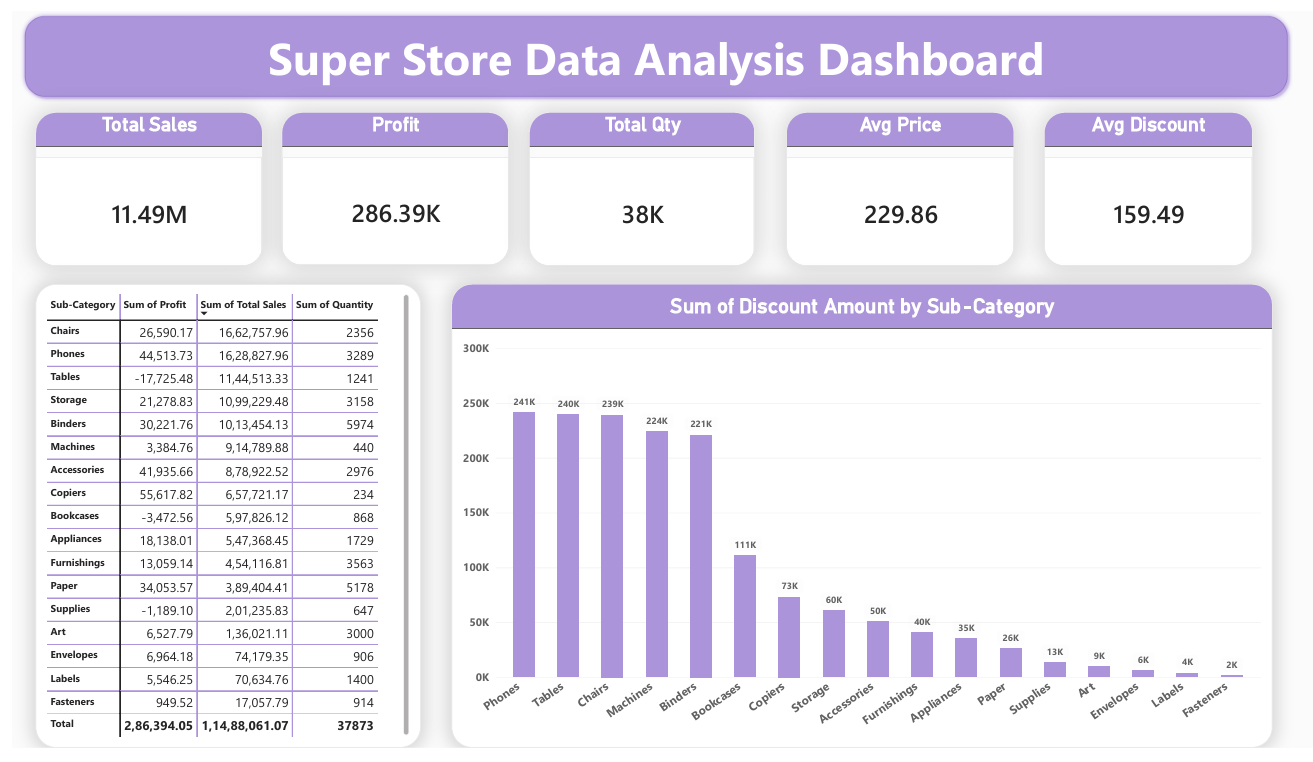

Layout of this report page (visuals, bound fields, positions):
{"tool":"powerbi","page":{"name":"Sales","canvas":[1920,1080],"ordinal":1},"visuals":[{"type":"shape","box":[10.9,0,1865.8,132.1],"z":0},{"type":"cardVisual","title":"Total Sales","fields":{"Data":["Sum(SampleSuperstore.Total Sales)"]},"box":[34.4,148.4,333,224.4],"z":1000},{"type":"cardVisual","title":"Profit","fields":{"Data":["Sum(SampleSuperstore.Profit)"]},"box":[394.5,148.4,333,224],"z":2000},{"type":"cardVisual","title":"Total Qty","fields":{"Data":["Sum(SampleSuperstore.Quantity)"]},"box":[758.2,148.4,331.2,224.4],"z":3000},{"type":"cardVisual","title":"Avg Price","fields":{"Data":["Avg(SampleSuperstore.Price)"]},"box":[1134.7,148.4,334.8,224.4],"z":4000},{"type":"cardVisual","title":"Avg Discount","fields":{"Data":["Avg(SampleSuperstore.Discount Amount)"]},"box":[1512.9,148.4,305.8,224.4],"z":5000},{"type":"pivotTable","fields":{"Rows":["SampleSuperstore.Sub-Category"],"Values":["Sum(SampleSuperstore.Profit)","Sum(SampleSuperstore.Total Sales)","Sum(SampleSuperstore.Quantity)"]},"box":[34.4,399.9,564.6,680.4],"z":6000},{"type":"clusteredColumnChart","fields":{"Category":["SampleSuperstore.Sub-Category"],"Y":["Sum(SampleSuperstore.Discount Amount)"]},"box":[644.2,399.9,1204,680],"z":7000}]}

Visuals, with their boxes on the page's 1920x1080 design canvas (x1, y1, x2, y2). These are canvas units, not pixel positions in the 1313x762 screenshot, which may show the page scaled, cropped or inside an application window:
shape: {"x1": 11, "y1": 0, "x2": 1877, "y2": 132}
"Total Sales" cardVisual: {"x1": 34, "y1": 148, "x2": 367, "y2": 373}
"Profit" cardVisual: {"x1": 394, "y1": 148, "x2": 728, "y2": 372}
"Total Qty" cardVisual: {"x1": 758, "y1": 148, "x2": 1089, "y2": 373}
"Avg Price" cardVisual: {"x1": 1135, "y1": 148, "x2": 1470, "y2": 373}
"Avg Discount" cardVisual: {"x1": 1513, "y1": 148, "x2": 1819, "y2": 373}
pivotTable - SampleSuperstore.Sub-Category x Sum(SampleSuperstore.Profit): {"x1": 34, "y1": 400, "x2": 599, "y2": 1080}
clusteredColumnChart - SampleSuperstore.Sub-Category x Sum(SampleSuperstore.Discount Amount): {"x1": 644, "y1": 400, "x2": 1848, "y2": 1080}
